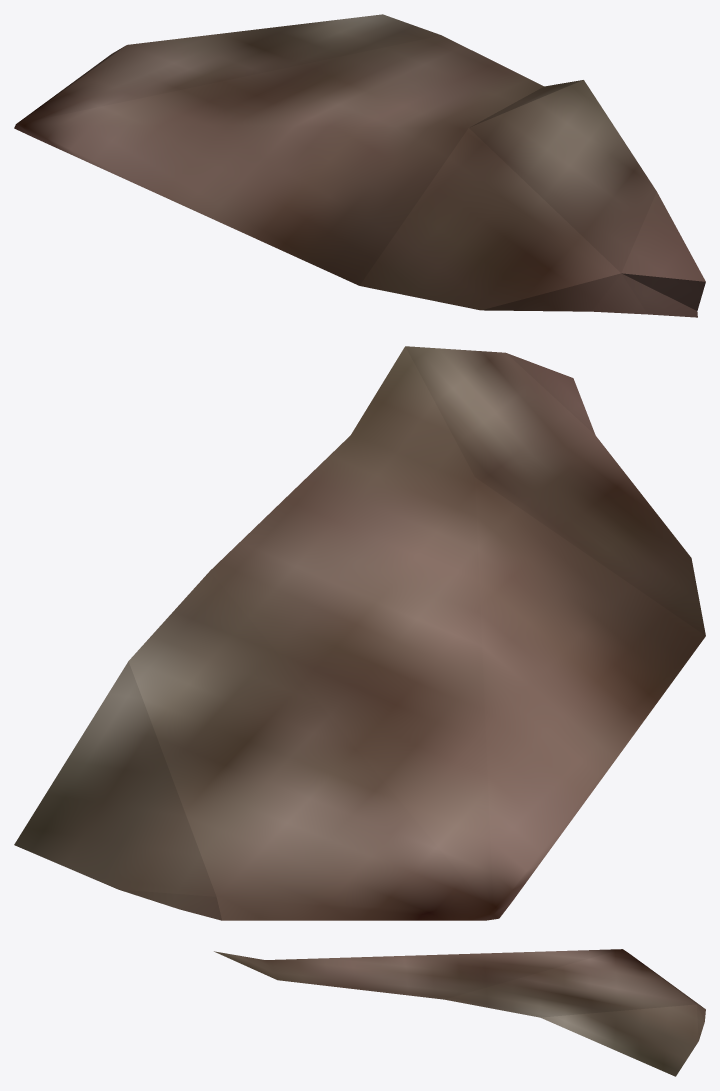
3 views of the same model, one above another, from view 1: azimuth 30°, elevation 25°; view 2: azimuth 150°, elevation 25°; view 3: azimuth 270°, elevation 25° (orthographic). The views are drawn at different scales.
Size of the model in its own units: 0.0715 by 0.033 by 0.1648.
Materials: 1 (1 with a texture image).
